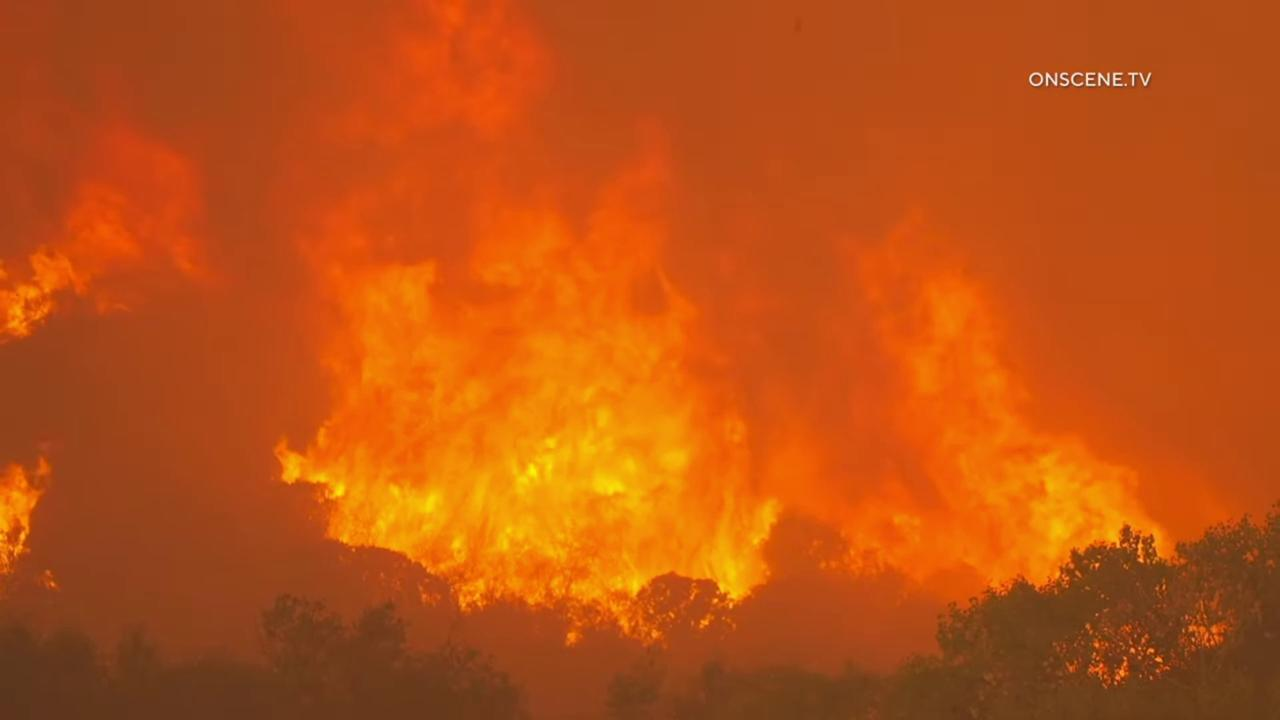fire: (266, 1, 782, 655), (812, 198, 1177, 574), (0, 134, 212, 345), (0, 433, 71, 604)
smoke: (0, 0, 1280, 720)
